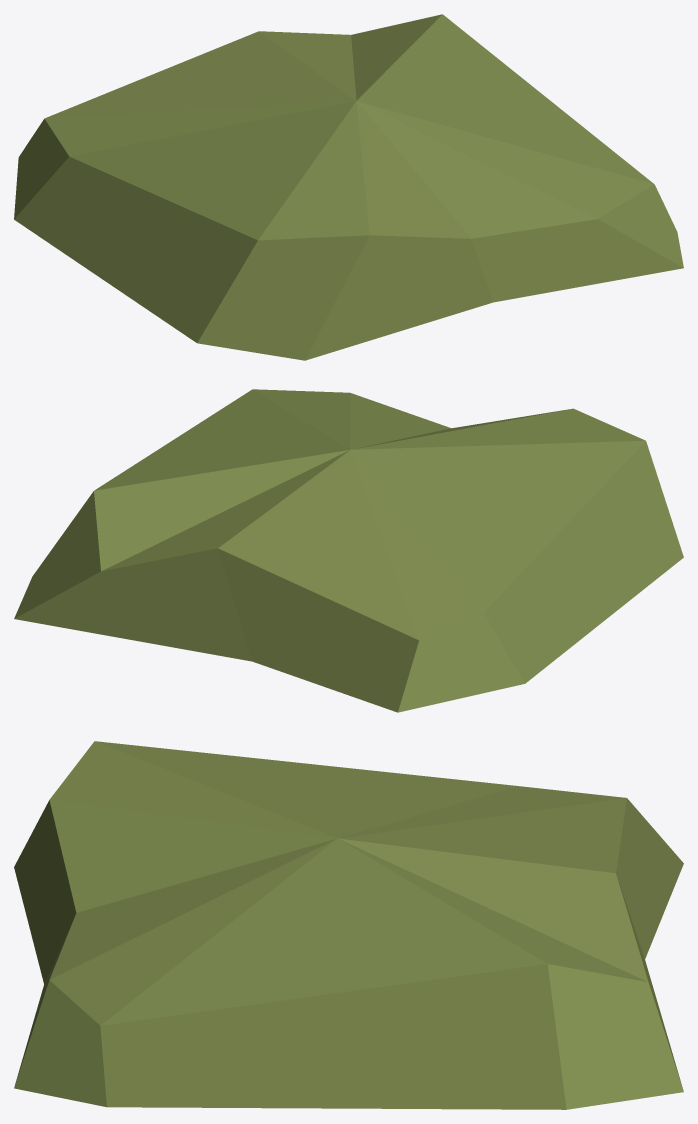
The model's file is SM_Env_Dirt_Pile_02.glb.
3 renders of one model, top to bottom at view 1: azimuth 30°, elevation 25°; view 2: azimuth 150°, elevation 25°; view 3: azimuth 270°, elevation 25°, orthographic. The views are drawn at different scales.
Visible parts, largest first — view 1: SM_Env_Dirt_Pile_02; view 2: SM_Env_Dirt_Pile_02; view 3: SM_Env_Dirt_Pile_02.
Part boxes in pixels (bbox=[...]): SM_Env_Dirt_Pile_02: bbox=[14, 14, 683, 360]; SM_Env_Dirt_Pile_02: bbox=[14, 389, 683, 712]; SM_Env_Dirt_Pile_02: bbox=[14, 741, 683, 1109].
Bounding box in the file's own units: 1 × 0.2259 × 0.9958.
Materials: 1 (1 with a texture image).
